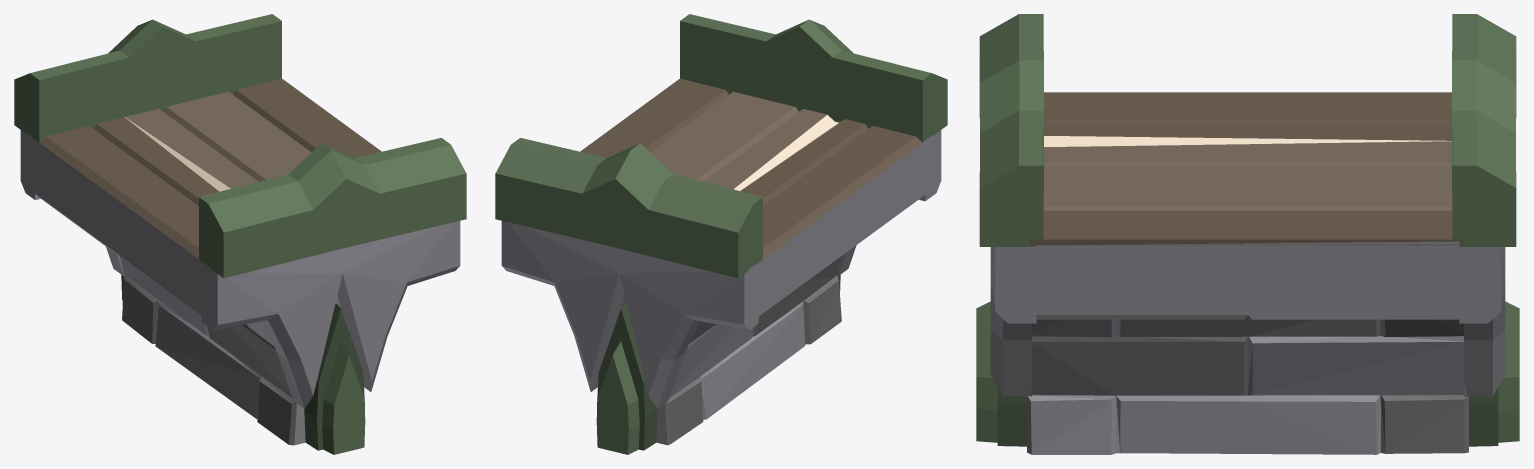
Rendered from _bridge_middle.fbx.
3 views of the same model, side by side, from view 1: azimuth 30°, elevation 25°; view 2: azimuth 150°, elevation 25°; view 3: azimuth 270°, elevation 25° (orthographic). The views are drawn at different scales.
Parts seen in each view (by area): view 1: bridge_middle_01; view 2: bridge_middle_01; view 3: bridge_middle_01.
Boxes of the visible parts, box(x1,y1,x2,y2) form: bridge_middle_01: box(14, 14, 466, 454); bridge_middle_01: box(495, 14, 947, 454); bridge_middle_01: box(976, 14, 1519, 454).
Bounding box in the file's own units: 346 × 394 × 524.
